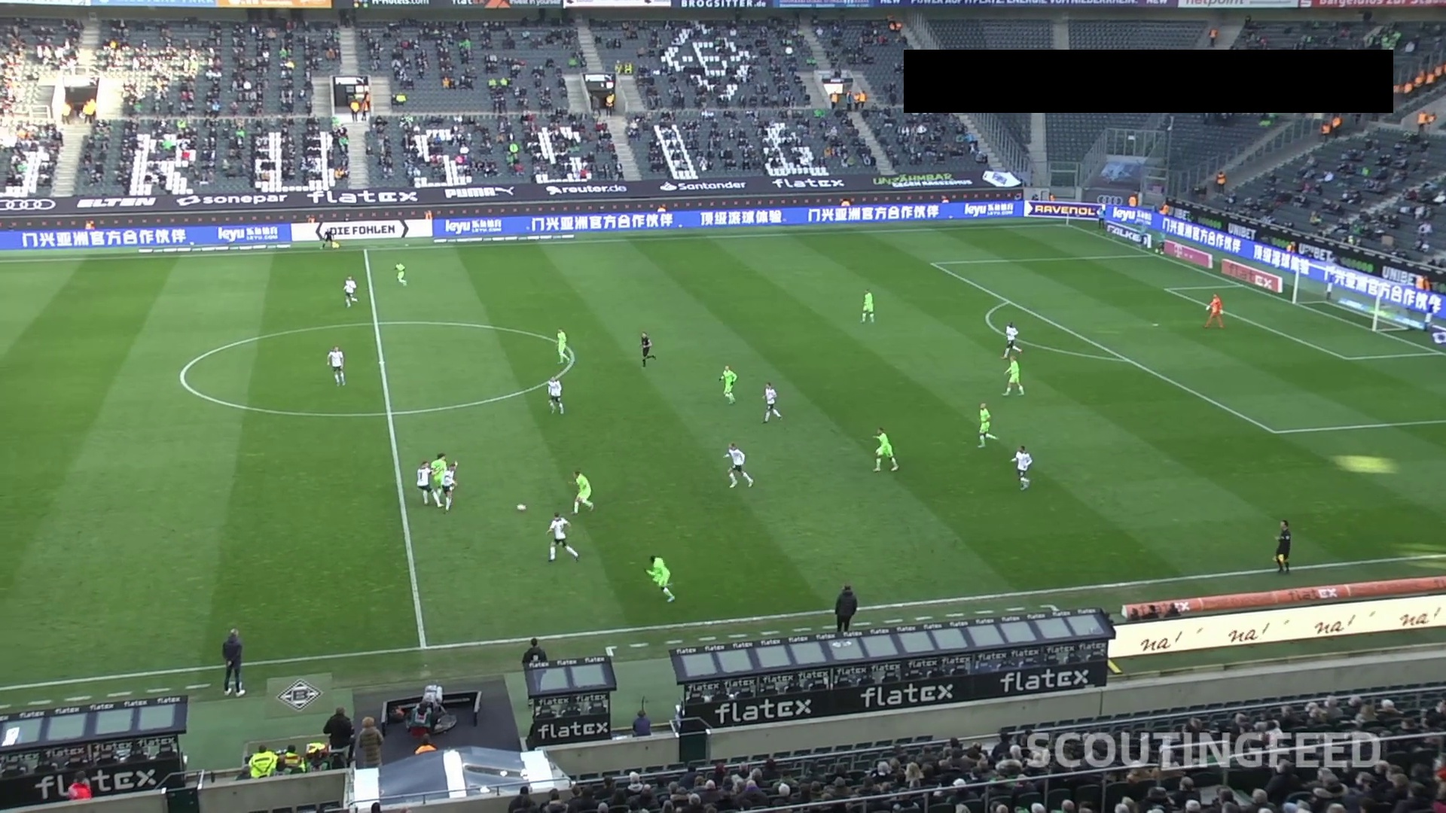ball: (564, 553, 593, 585)
goalkeeper: (1193, 203, 1265, 285)
player: (542, 366, 615, 447), (831, 366, 904, 447), (687, 366, 759, 447), (398, 447, 470, 528), (470, 325, 542, 406), (615, 285, 687, 366), (976, 447, 1048, 528)
referee: (759, 366, 831, 447)
